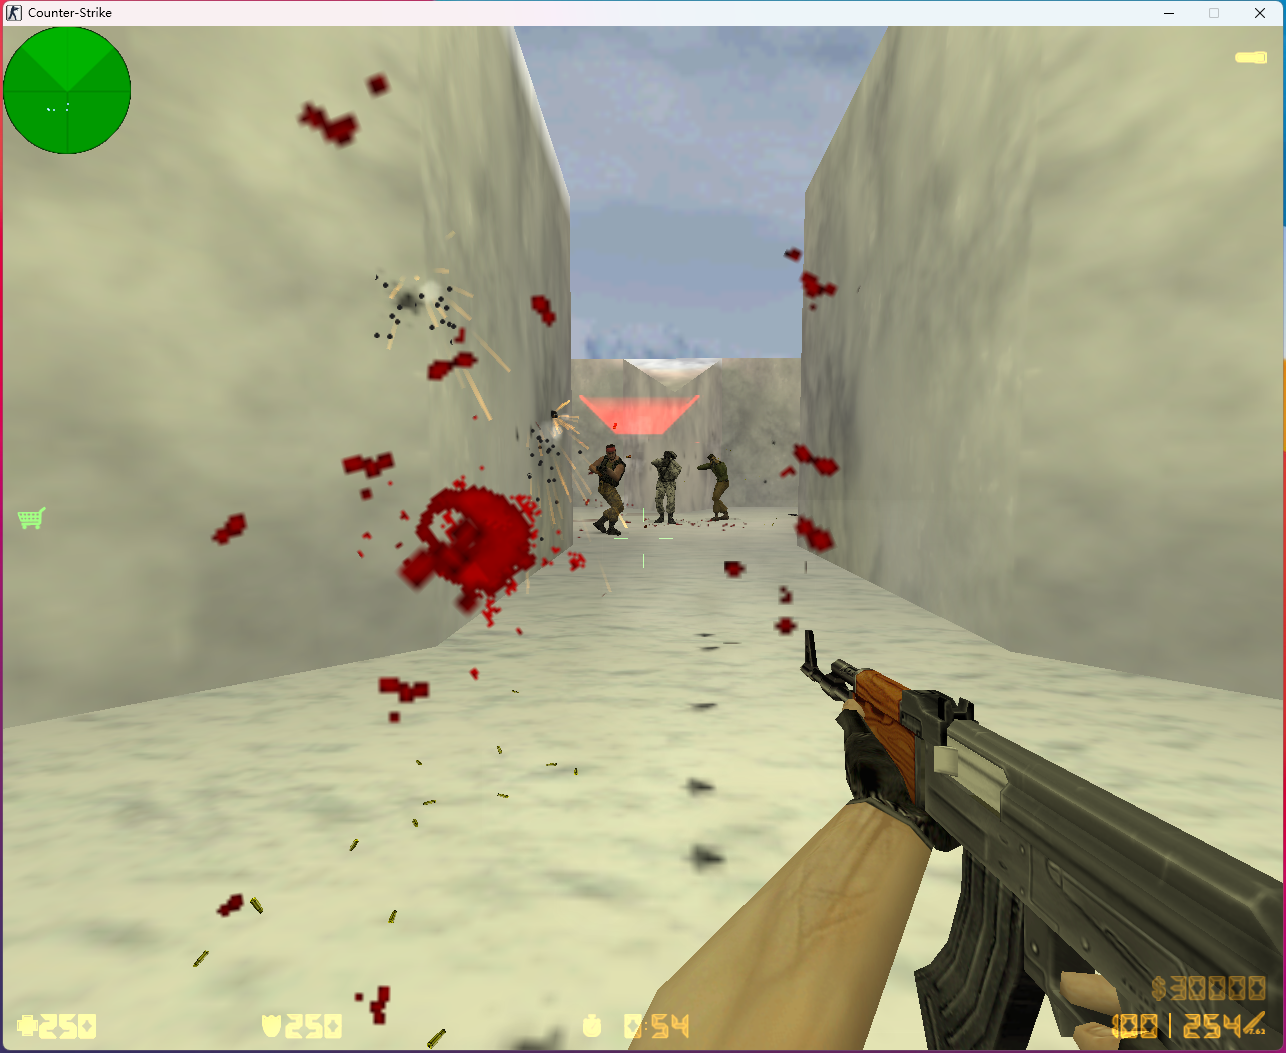T: (589, 445, 627, 535), (695, 452, 734, 520), (650, 449, 681, 523)
